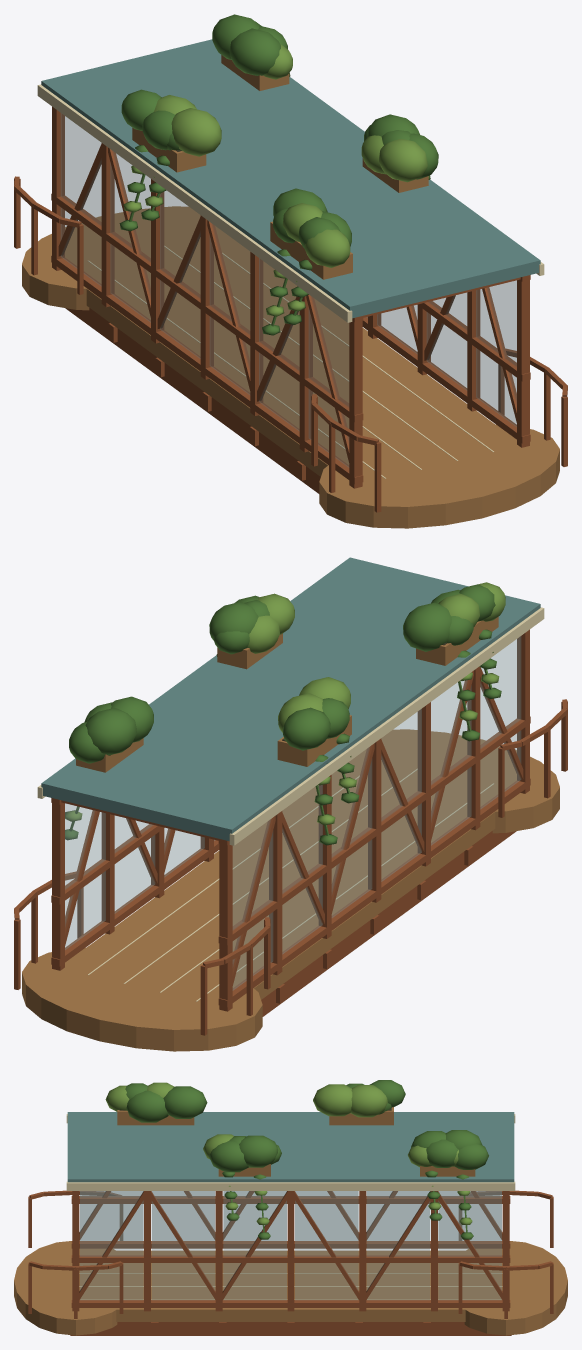
The model's file is skybridge_8.meshopt.glb.
The picture shows the model from 3 angles, top to bottom: view 1: azimuth 30°, elevation 25°; view 2: azimuth 150°, elevation 25°; view 3: azimuth 270°, elevation 25°; orthographic projection. The views are drawn at different scales.
Visible parts, largest first — view 1: skybridge; view 2: skybridge; view 3: skybridge.
Boxes of the visible parts, bbox=[...] form: skybridge: bbox=[14, 14, 567, 528]; skybridge: bbox=[14, 557, 567, 1051]; skybridge: bbox=[14, 1080, 567, 1335].
Bounding box in the file's own units: 3.5 × 4.08 × 10.3.
